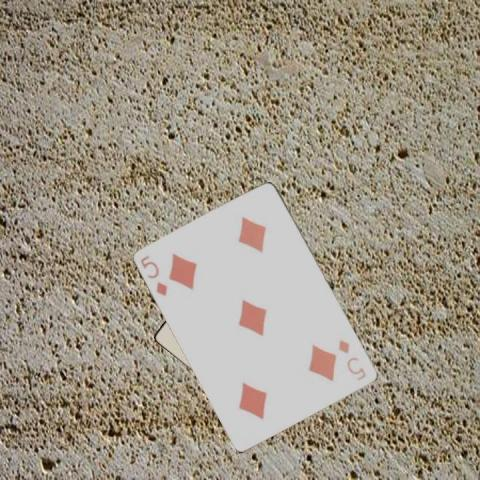5d: (335, 336, 368, 383), (138, 252, 169, 298)
